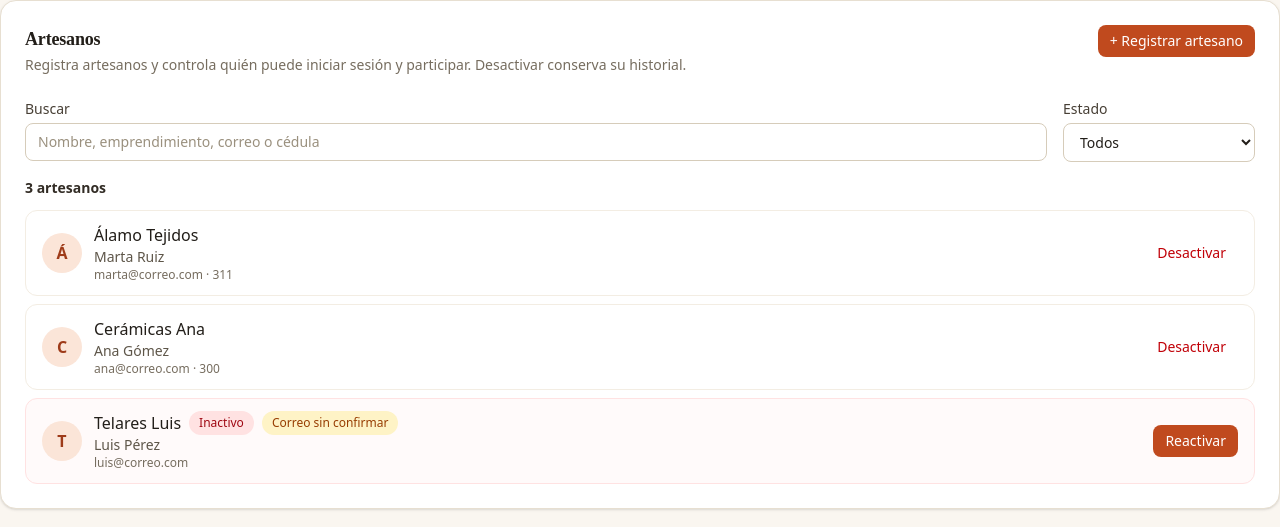
GestionArtesanos: búsqueda y filtro › si nada coincide sugiere cambiar la búsqueda
In the search field labelled "Buscar": (536, 142) [25,123,1047,161], type "zzz"
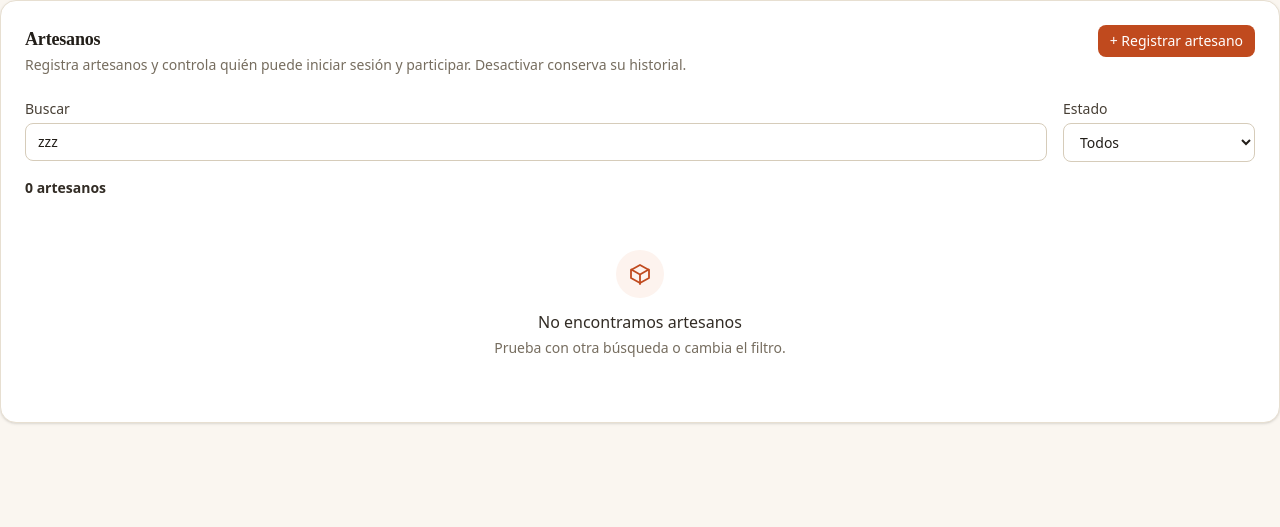
Check: the text "No encontramos artesanos" is shown, box [538,310,742,334]
Check: the text "Prueba con otra búsqueda o cambia el filtro." is shown, box [494,338,786,358]
